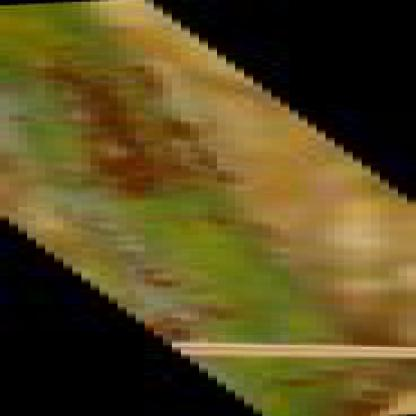wheat Stem Rust: (31, 63, 244, 198), (293, 369, 415, 408), (93, 259, 235, 290), (152, 311, 249, 334), (334, 310, 388, 348)
